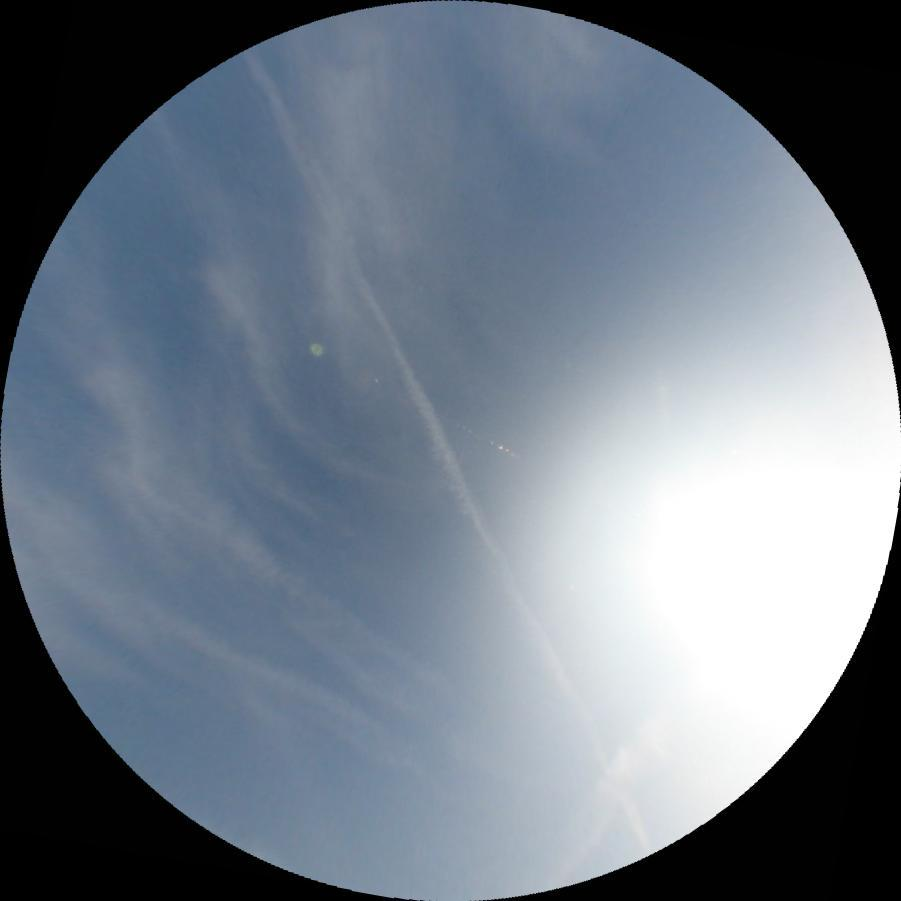contrail veryold: (237, 44, 656, 859), (141, 480, 512, 769), (61, 545, 435, 812), (506, 738, 661, 901)
sun: (615, 441, 900, 715)
